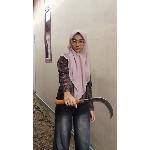Celurit: (53, 93, 115, 121)
